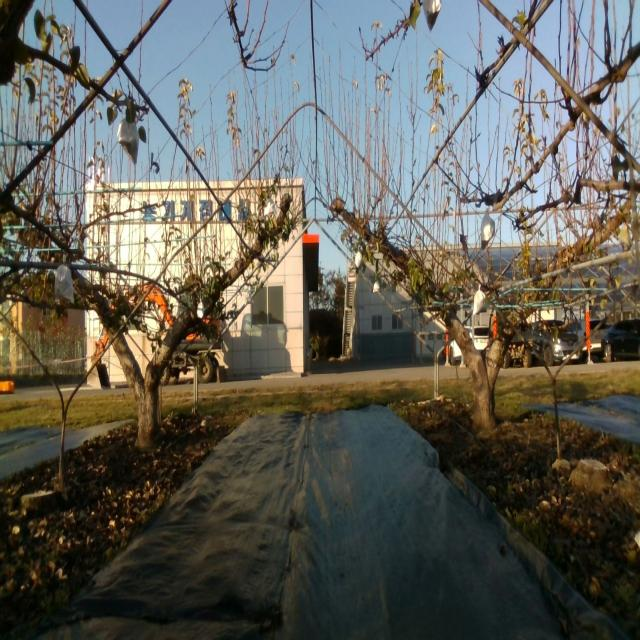pearbags: (54, 256, 76, 308), (118, 119, 140, 162), (481, 213, 495, 251), (472, 284, 487, 314)
